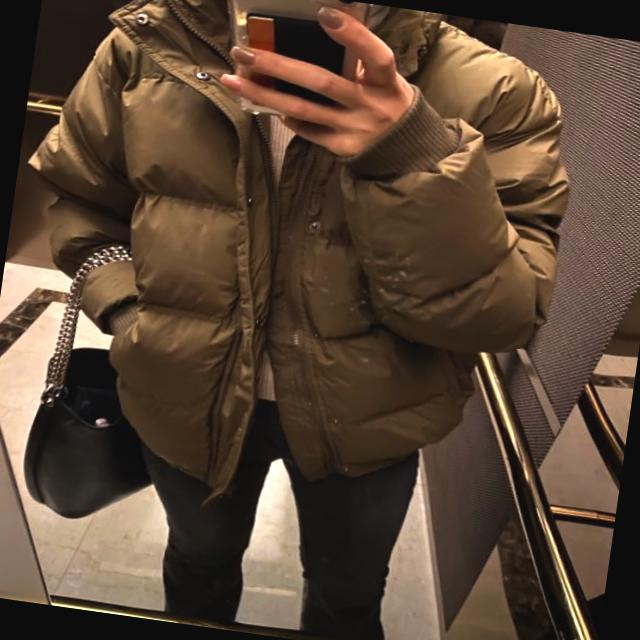denimpants: (122, 377, 426, 640)
padding: (0, 0, 594, 536)
